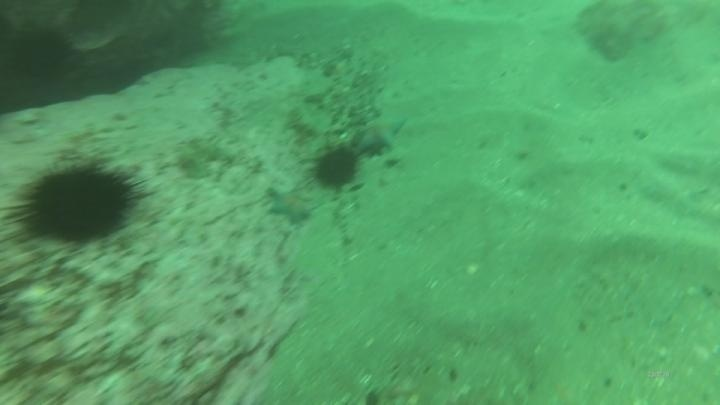echinus: (10, 156, 147, 248), (4, 21, 78, 90), (309, 143, 362, 192)
holothurian: (174, 154, 225, 183), (186, 133, 237, 161)
starfish: (351, 109, 411, 158), (264, 184, 318, 228)
